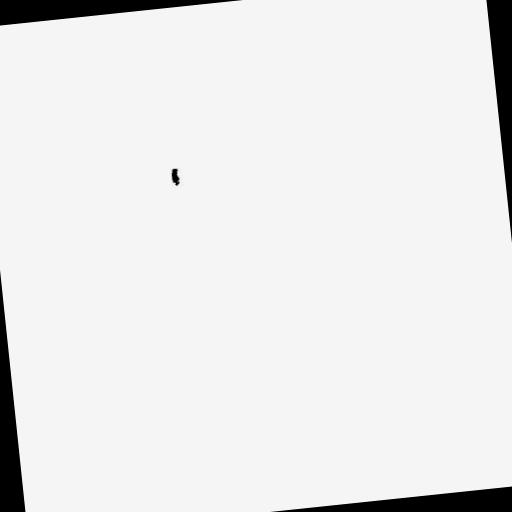copper: (162, 160, 188, 194)
